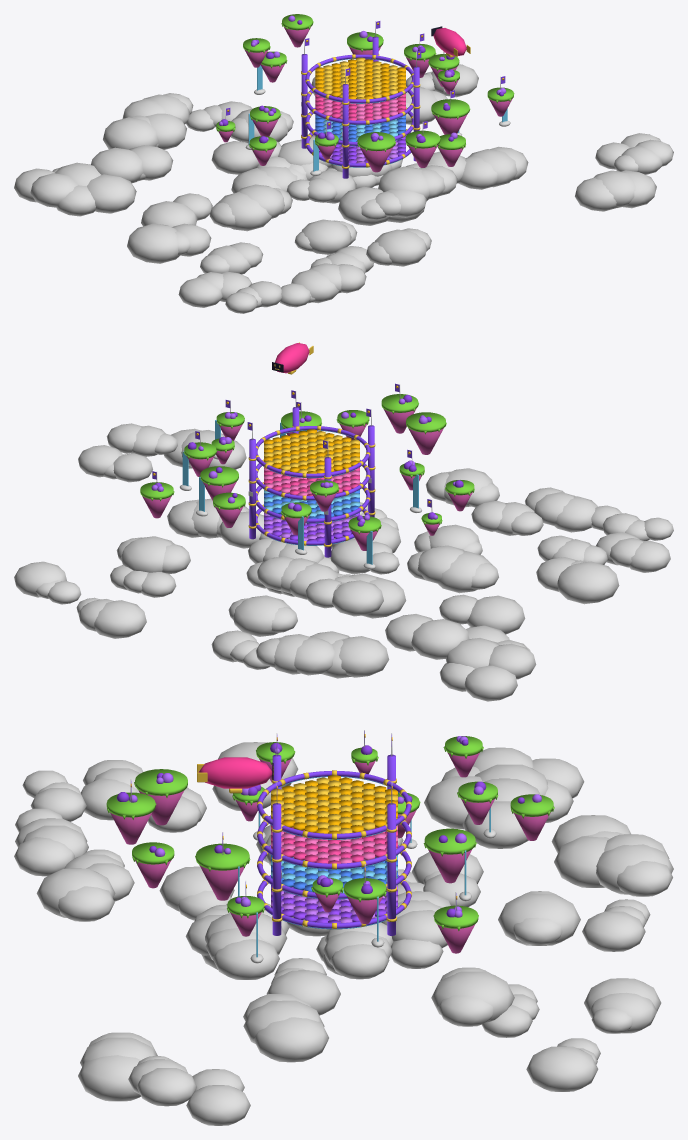
Rendered from hexa.glb.
3 views of the same model, one above another, from view 1: azimuth 30°, elevation 25°; view 2: azimuth 150°, elevation 25°; view 3: azimuth 270°, elevation 25° (orthographic). The views are drawn at different scales.
Parts seen in each view (by area): view 1: CLD8_0, CLD6_2, CLD27_0, CLD19_1, CLD14_1, CLD37_0, CLD17_1, CLD13_0, CLD28_0, CLD1_0, CLD9_0, CLD11_0 (+50 smaller); view 2: CLD8_0, CLD37_0, CLD27_0, CLD1_0, CLD3_0, CLD15_1, CLD22_0, CLD13_0, CLD24_1, CLD35_0, CLD17_1, CLD25_2 (+43 smaller); view 3: CLD12_2, CLD25_2, CLD15_1, CLD21_2, CLD24_1, CLD4_2, CLD36_2, CLD11_2, CLD27_2, CLD29_2, CLD37_2, BLP_body (+64 smaller).
Boxes of the visible parts, x1,y1,x2,y2 form: CLD8_0: (127,223,179,263); CLD6_2: (87,174,136,213); CLD27_0: (103,117,159,149); CLD19_1: (375,229,426,266); CLD14_1: (301,219,351,254); CLD37_0: (91,147,143,183); CLD17_1: (217,192,271,231); CLD13_0: (211,141,259,174); CLD28_0: (30,173,78,207); CLD1_0: (141,201,197,226); CLD9_0: (338,186,388,225); CLD11_0: (378,166,429,201); CLD8_0: (557,561,619,604); CLD37_0: (411,619,469,659); CLD27_0: (339,636,389,677); CLD1_0: (467,595,525,634); CLD3_0: (94,600,146,638); CLD15_1: (233,595,290,636); CLD22_0: (464,665,517,701); CLD13_0: (332,580,383,616); CLD24_1: (121,536,174,572); CLD35_0: (294,637,334,675); CLD17_1: (437,551,491,593); CLD25_2: (14,561,66,597); CLD12_2: (253,1017,328,1062); CLD25_2: (526,1046,598,1091); CLD15_1: (498,893,580,945); CLD21_2: (78,1055,140,1101); CLD24_1: (431,971,514,1022); CLD4_2: (186,1085,250,1125); CLD36_2: (582,911,645,951); CLD11_2: (212,939,279,979); CLD27_2: (554,836,609,887); CLD29_2: (266,970,340,1015); CLD37_2: (462,801,528,848); BLP_body: (198,757,272,788).
Size of the model in its own units: 155 by 50.56 by 120.
